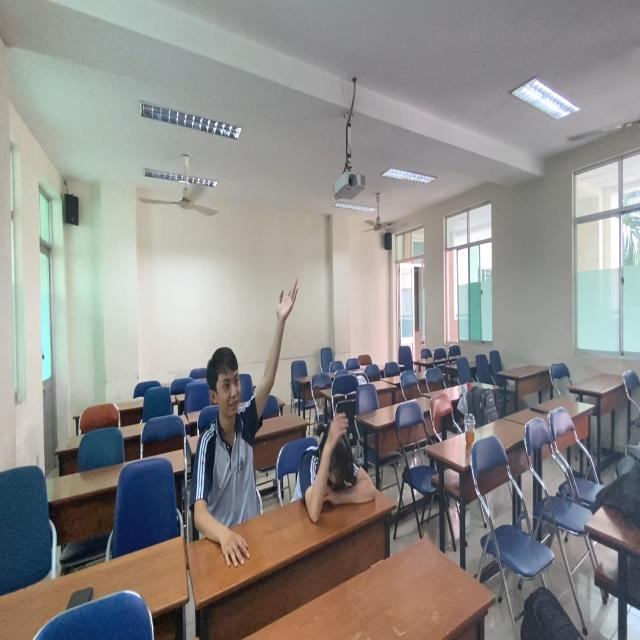raise_hand: (190, 277, 300, 545)
sleep: (291, 412, 387, 517)
